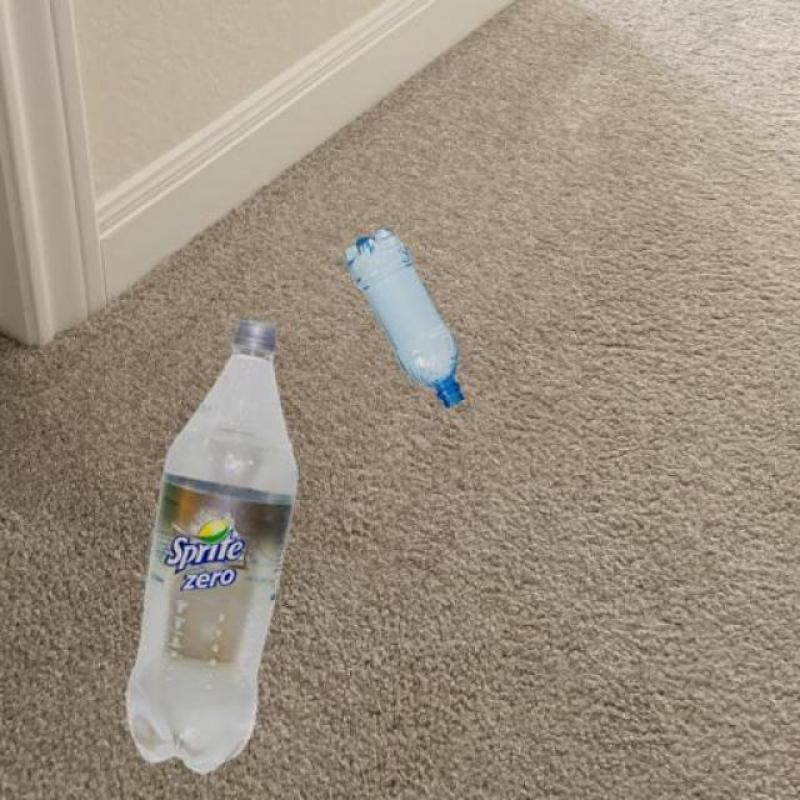botella: (126, 320, 299, 775), (346, 228, 464, 408)
